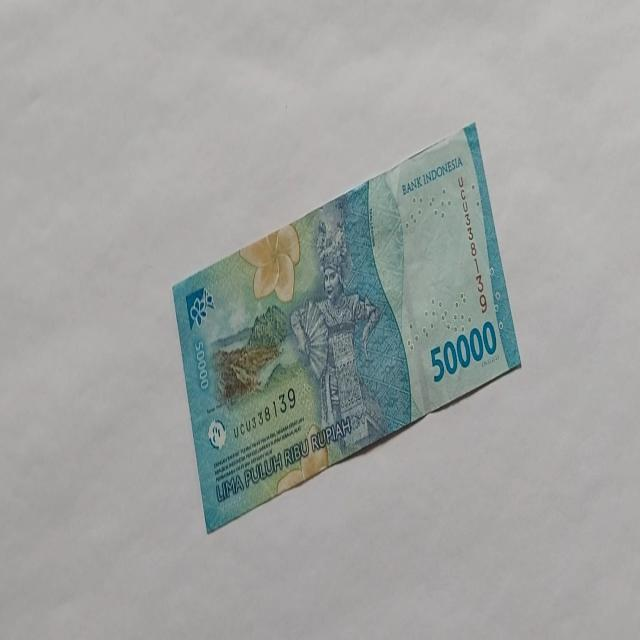lima puluh ribu rupiah: (171, 120, 522, 534), (428, 319, 498, 383)
